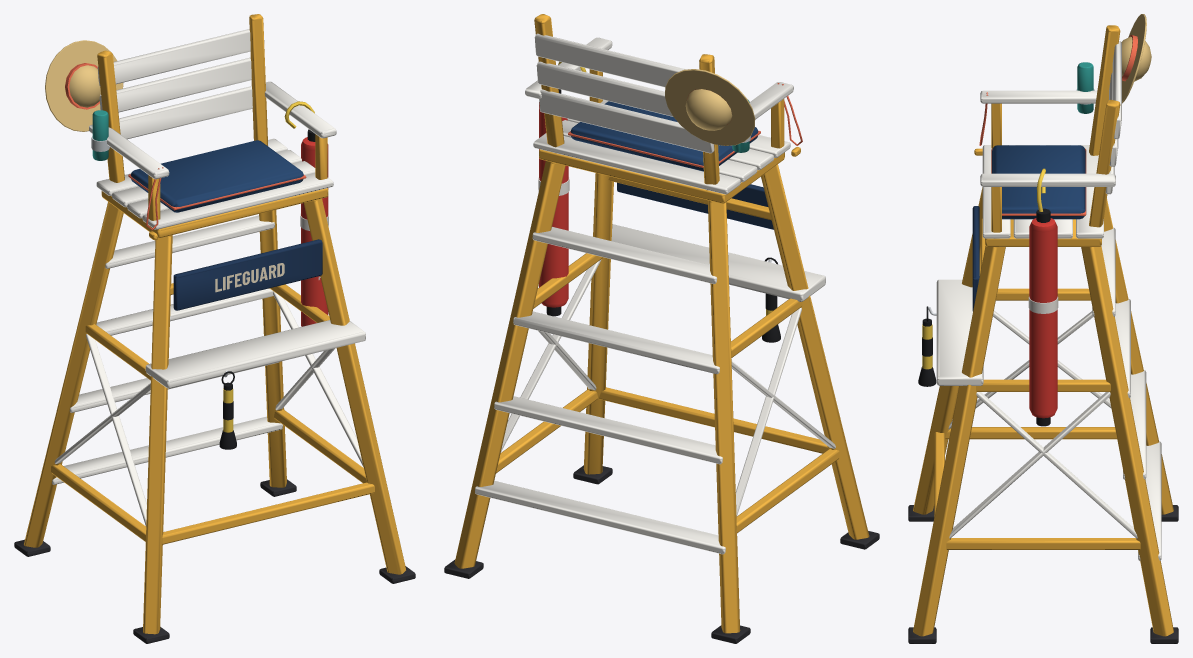
Rendered from lifeguard_chair.glb.
3 renders of one model, left to right at view 1: azimuth 30°, elevation 25°; view 2: azimuth 150°, elevation 25°; view 3: azimuth 270°, elevation 25°, orthographic. The views are drawn at different scales.
Visible parts, largest first — view 1: LifeguardChairMesh, Flashlight; view 2: LifeguardChairMesh; view 3: LifeguardChairMesh, Flashlight.
Boxes of the visible parts, bbox=[...] form: LifeguardChairMesh: bbox=[14, 14, 415, 643]; Flashlight: bbox=[219, 371, 236, 449]; LifeguardChairMesh: bbox=[444, 14, 879, 643]; LifeguardChairMesh: bbox=[908, 14, 1178, 643]; Flashlight: bbox=[918, 306, 936, 386].
Bounding box in the file's own units: 1.36 × 2.44 × 1.15.
